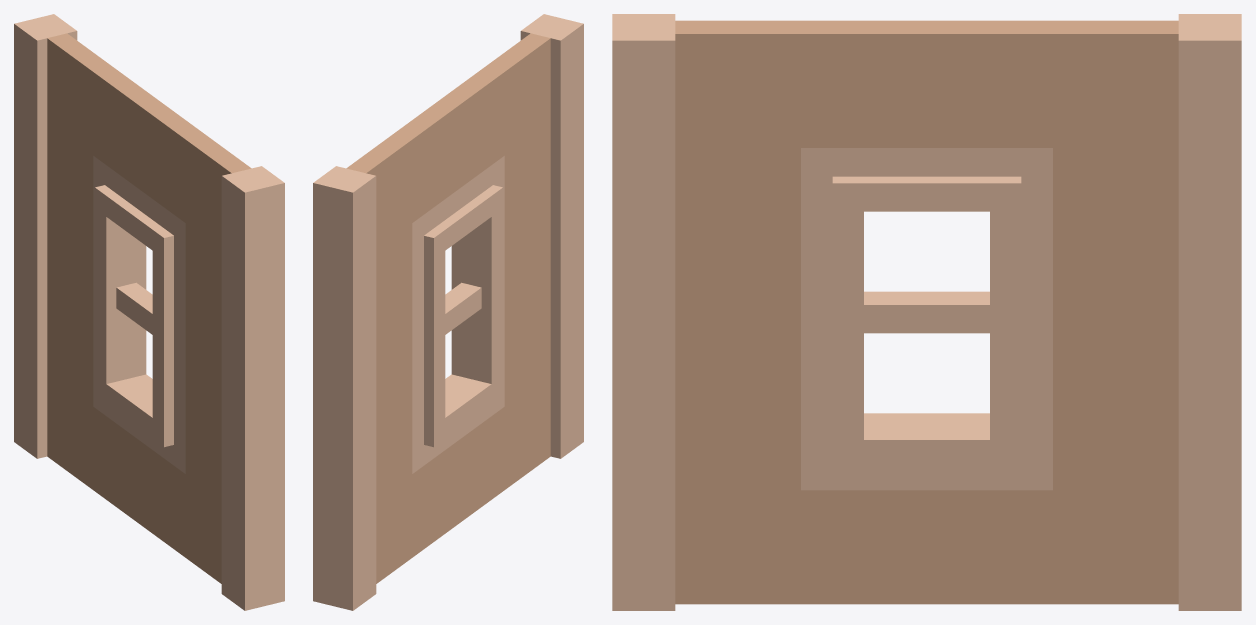
3 renders of one model, left to right at view 1: azimuth 30°, elevation 25°; view 2: azimuth 150°, elevation 25°; view 3: azimuth 270°, elevation 25°, orthographic. The views are drawn at different scales.
Parts seen in each view (by area): view 1: wallWoodWindowGlass; view 2: wallWoodWindowGlass; view 3: wallWoodWindowGlass.
Part boxes in pixels (x1,y1,x2,y2): wallWoodWindowGlass: (14,14,284,610); wallWoodWindowGlass: (313,14,583,610); wallWoodWindowGlass: (612,14,1241,610).
Size of the model in its own units: 0.1 by 1 by 1.
